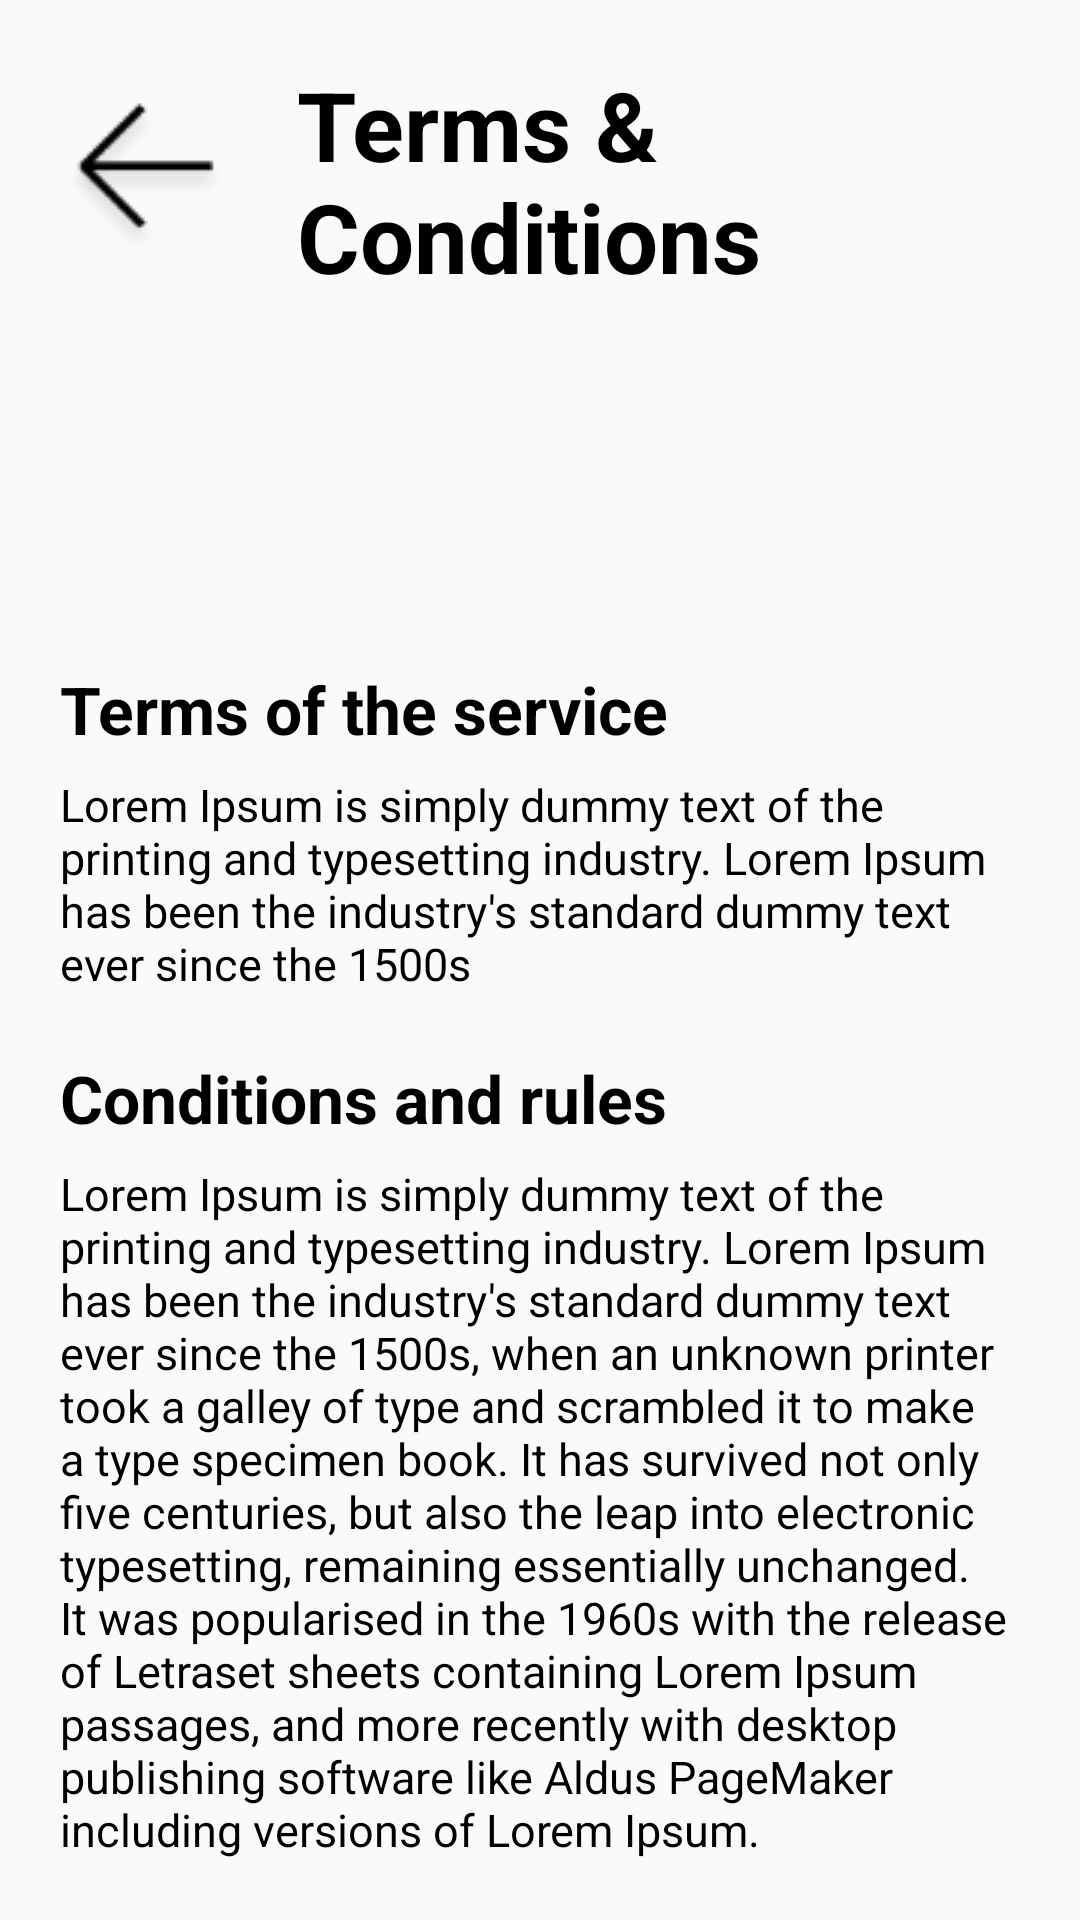

Locate icon controls on the screen. Image size 1080 × 1920, boxes as bbox=[x1, y1, x2, y2].
back: bbox=[78, 103, 214, 230]
